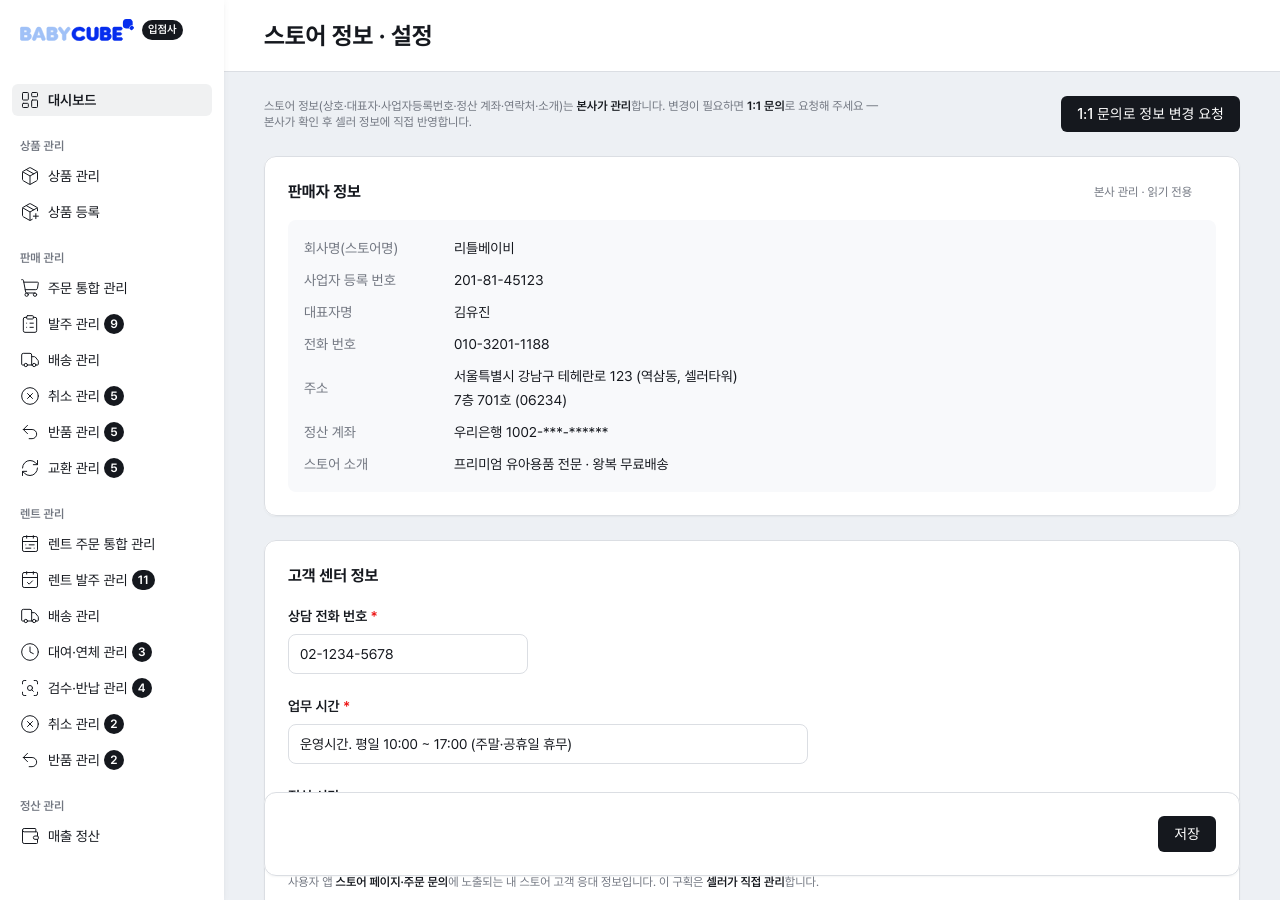
Test case: 스토어 정보 · 설정 › 판매자 정보는 읽기 · 고객 센터 정보만 입력 · [저장] 알림
Expected: the text "201-81-45123" is shown, [454,268,544,292]
Expected: the text "우리은행 1002-***-******" is shown, [454,420,608,444]
Replace the text in the field labelled "상담 전화 번호 *" with "02-555-0000" at [408, 654], box [300,642,516,666]
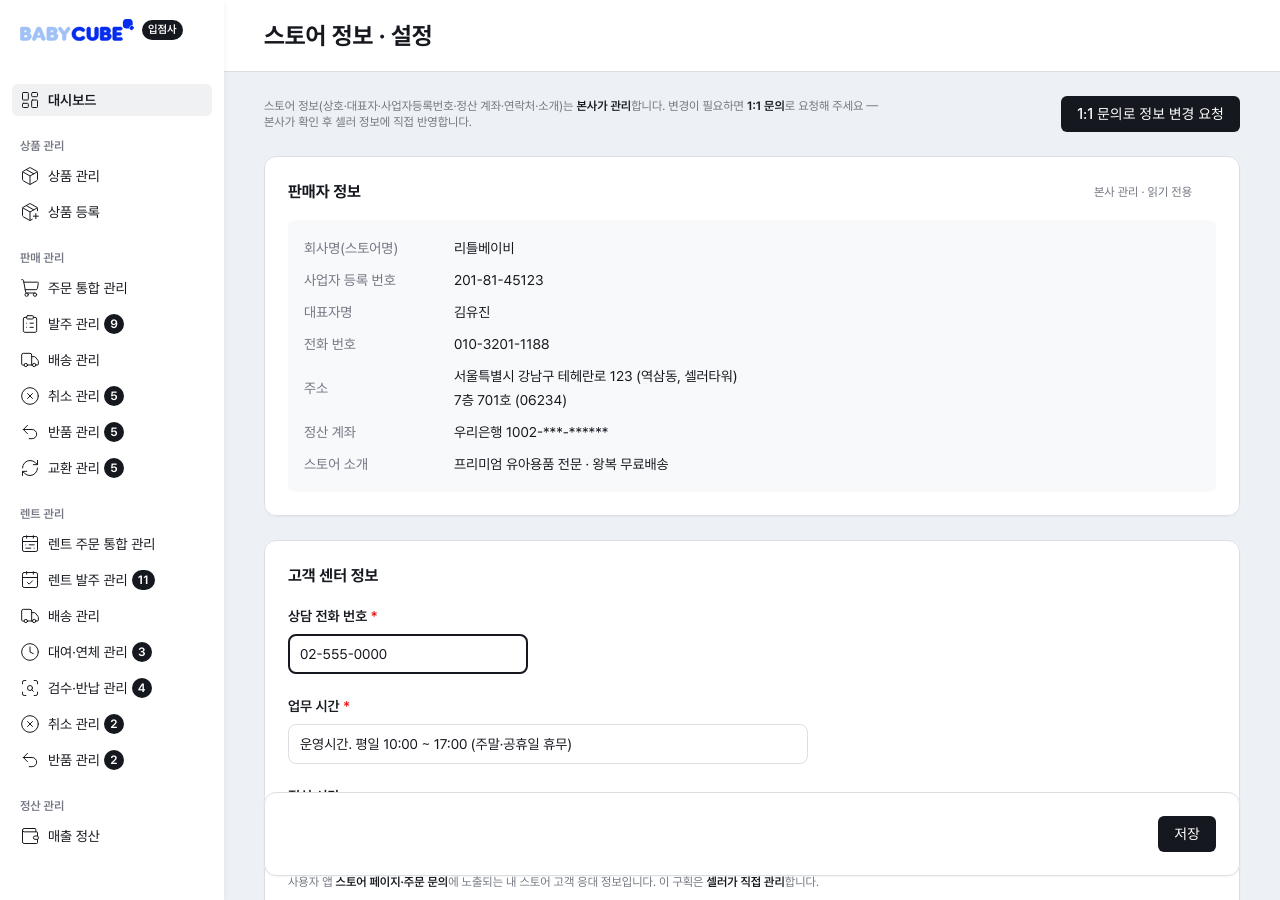
Click the button "저장" at [1187, 834], box [1158,816,1216,852]
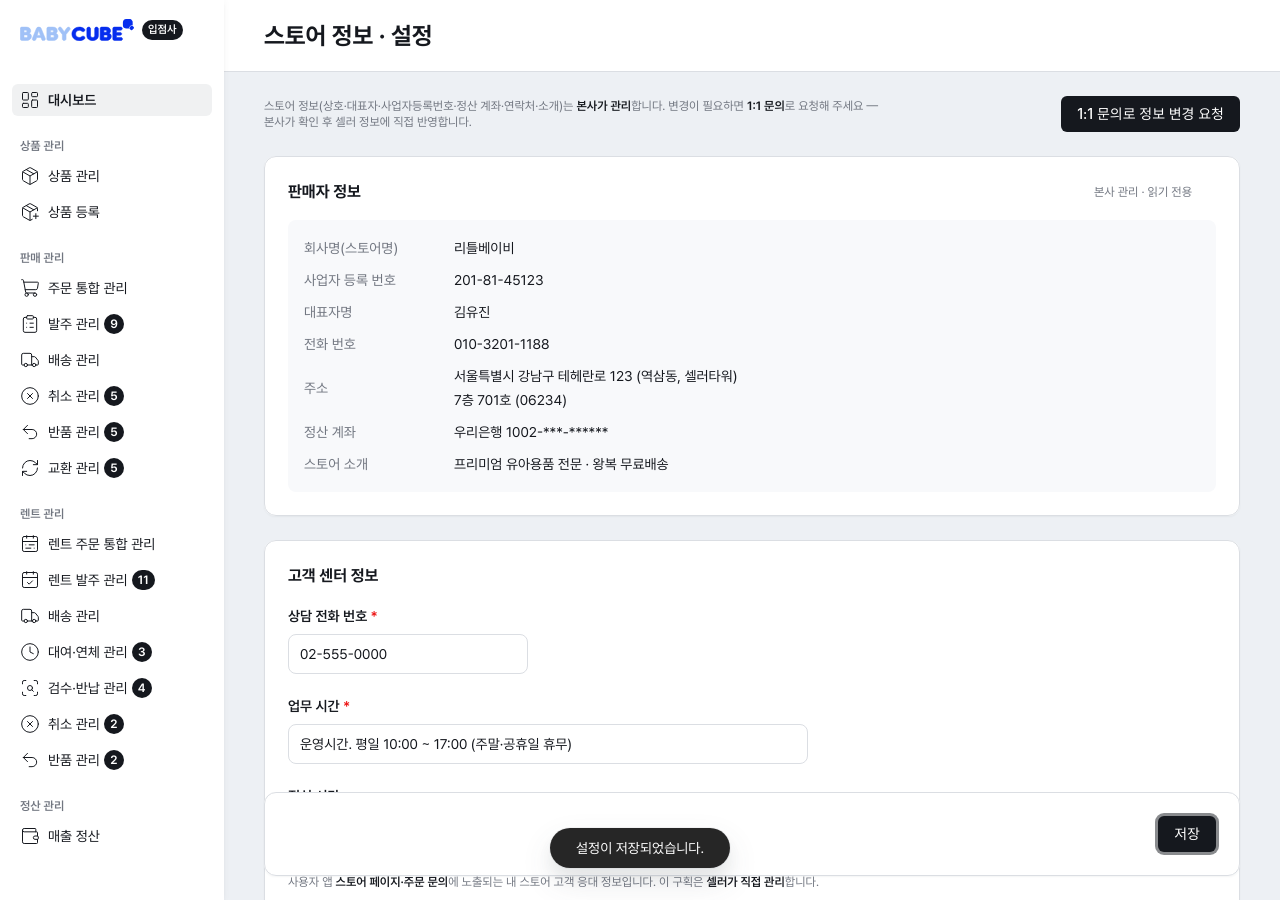
Now the text "설정이 저장되었습니다." is shown, box [550,828,730,868]
